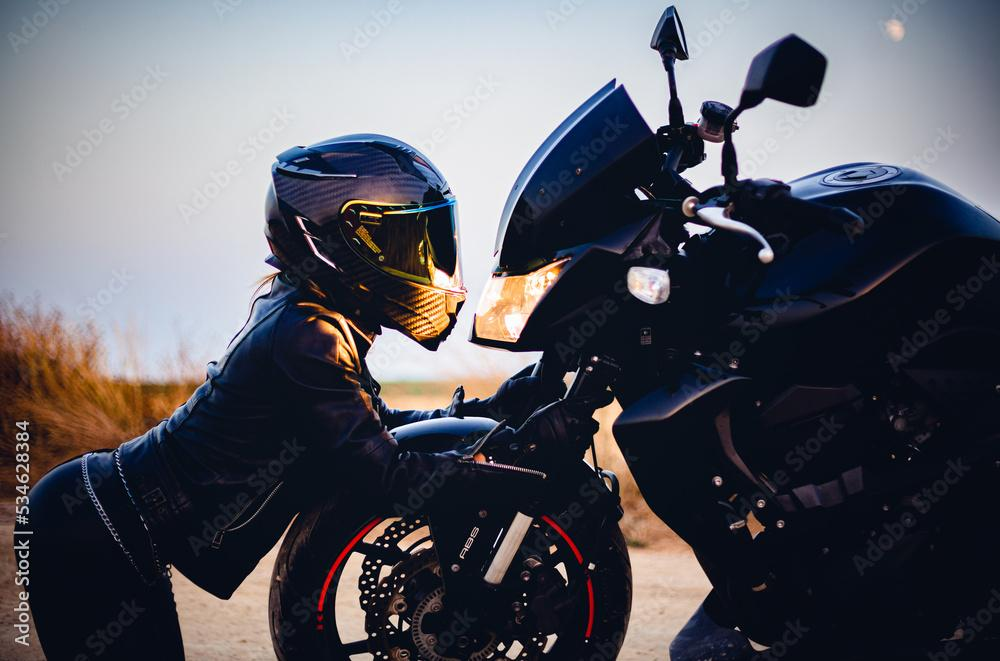helmet: (262, 131, 470, 353)
